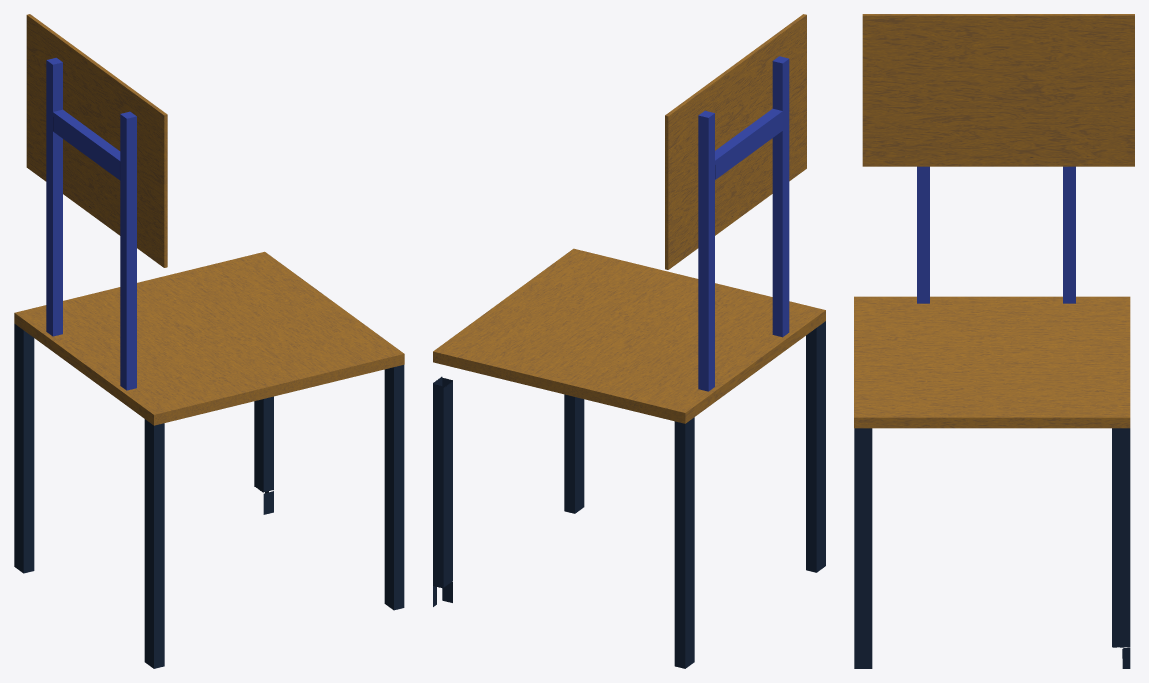
The model's file is Krzesło_zwykłe.fbx.
The picture shows the model from 3 angles, left to right: view 1: azimuth 30°, elevation 25°; view 2: azimuth 150°, elevation 25°; view 3: azimuth 270°, elevation 25°; orthographic projection.
Parts seen in each view (by area): view 1: Siedzisko, Oparcie, Ramie, Nogi 1, Nogi 2; view 2: Siedzisko, Oparcie, Ramie, Nogi 2, Nogi 1; view 3: Oparcie, Siedzisko, Nogi 1, Nogi 2, Ramie.
Boxes of the visible parts, left/top/right/bottom form: Siedzisko: left=14, top=251, right=404, bottom=425; Oparcie: left=26, top=14, right=167, bottom=267; Ramie: left=46, top=57, right=136, bottom=390; Nogi 1: left=144, top=365, right=404, bottom=668; Nogi 2: left=14, top=323, right=273, bottom=573; Siedzisko: left=433, top=248, right=825, bottom=423; Oparcie: left=665, top=14, right=806, bottom=269; Ramie: left=698, top=56, right=789, bottom=391; Nogi 2: left=433, top=376, right=694, bottom=668; Nogi 1: left=564, top=321, right=825, bottom=572; Oparcie: left=862, top=14, right=1134, bottom=166; Siedzisko: left=854, top=296, right=1130, bottom=428; Nogi 1: left=854, top=428, right=872, bottom=668; Nogi 2: left=1112, top=428, right=1130, bottom=668; Ramie: left=917, top=166, right=1075, bottom=303.
Bounding box in the file's own units: 621 × 1296 × 610.
